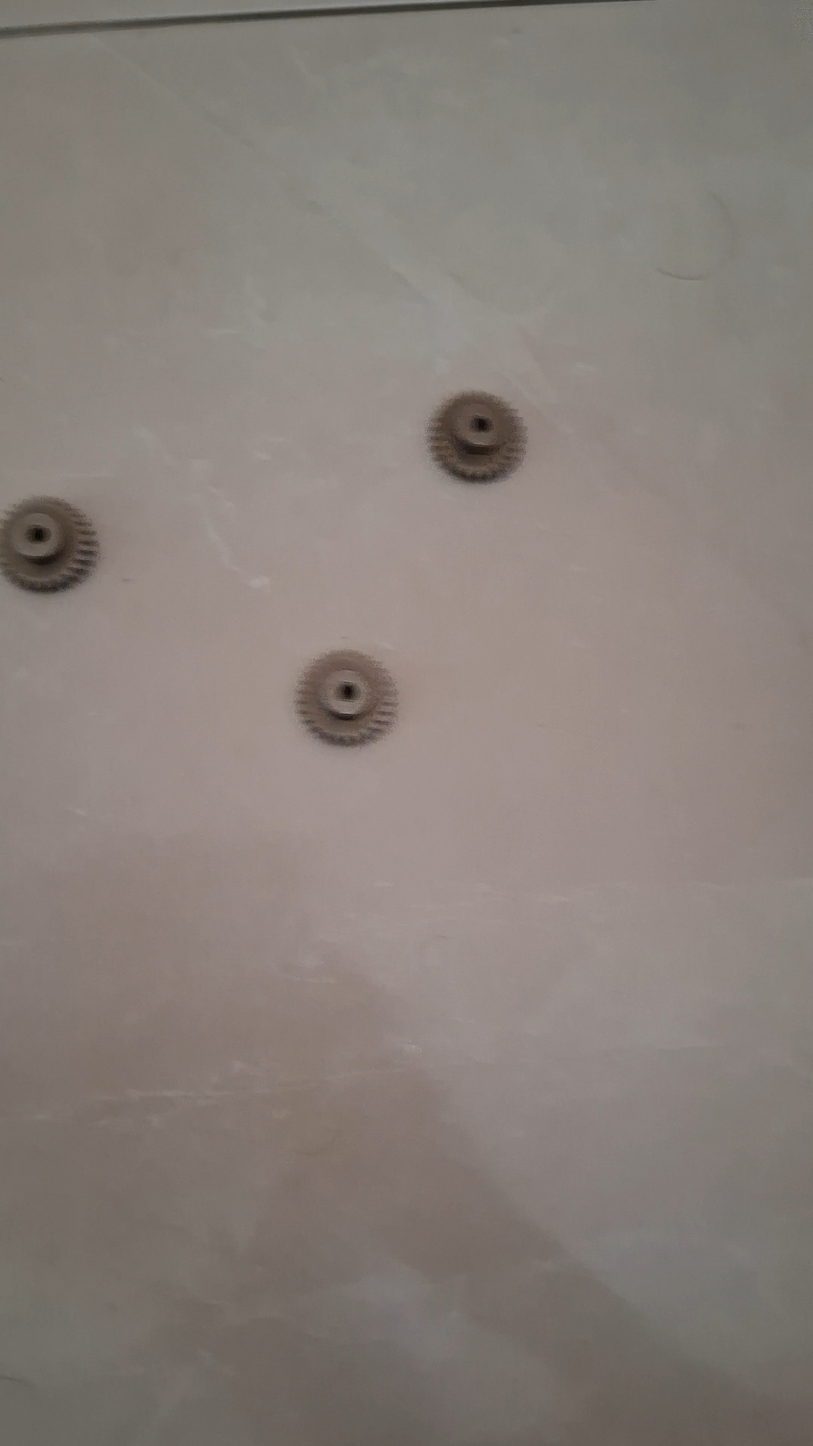spur gear: (295, 652, 397, 744), (0, 498, 98, 592), (428, 392, 525, 482)
